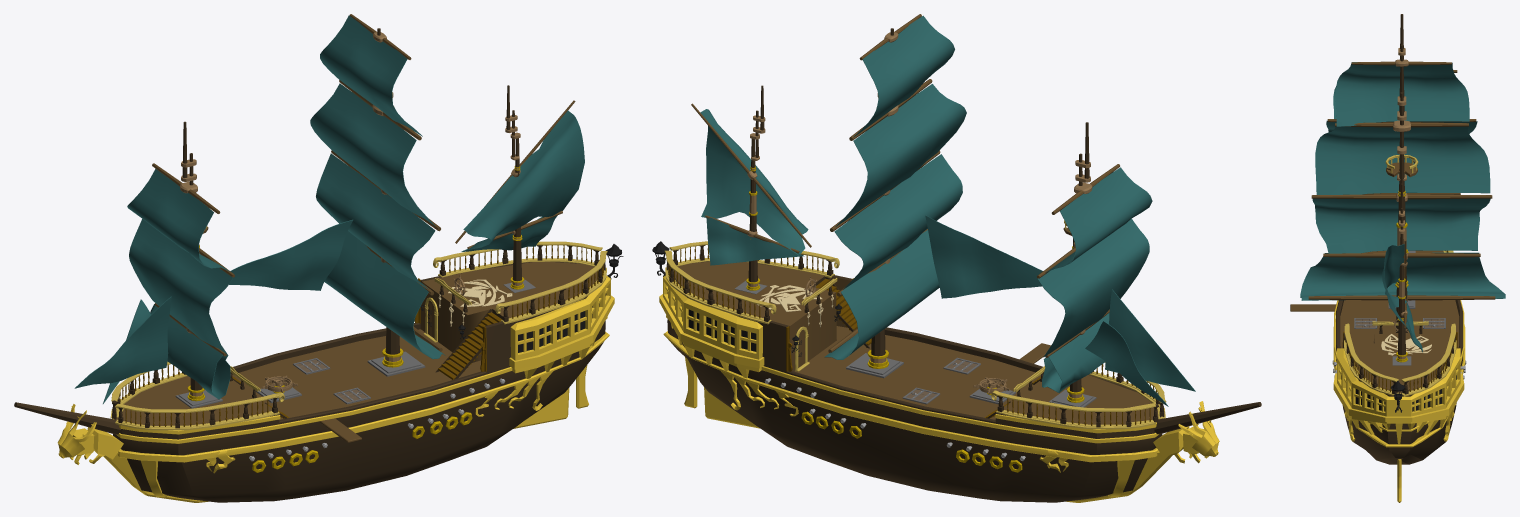
File: Ship.fbx
The picture shows the model from 3 angles, left to right: view 1: azimuth 30°, elevation 25°; view 2: azimuth 150°, elevation 25°; view 3: azimuth 270°, elevation 25°; orthographic projection. The views are drawn at different scales.
Parts seen in each view (by area): view 1: MainHull, sail10, sail4, sail5, sail1, sail6, Stern, sail3, PrimaryHullBand, sail9, sail2, sail8 (+10 smaller); view 2: MainHull, sail4, sail5, sail1, sail6, sail10, sail9, Stern, PrimaryHullBand, sail3, sail2, sail8 (+11 smaller); view 3: sail4, MainHull, sail5, sail3, sail6, Stern, PrimaryHullBand, sail10, SailBeam11, SailBeam17, SailBeam12, SailBeam7 (+13 smaller).
Boxes of the visible parts, box(x1,y1,x2,y2) form: MainHull: box(113, 261, 605, 502); sail10: box(463, 110, 584, 250); sail4: box(310, 83, 434, 225); sail5: box(316, 153, 435, 289); sail1: box(129, 219, 233, 354); sail6: box(324, 231, 445, 359); Stern: box(509, 275, 614, 378); sail3: box(320, 15, 422, 136); PrimaryHullBand: box(118, 332, 609, 497); sail9: box(229, 219, 353, 290); sail2: box(127, 169, 229, 271); sail8: box(74, 296, 171, 388); MainHull: box(667, 261, 1162, 502); sail4: box(835, 84, 966, 226); sail5: box(834, 154, 962, 289); sail1: box(1037, 218, 1149, 357); sail6: box(824, 230, 939, 359); sail10: box(700, 109, 808, 255); sail9: box(925, 215, 1042, 298); Stern: box(659, 275, 764, 378); PrimaryHullBand: box(663, 331, 1157, 497); sail3: box(853, 15, 954, 137); sail2: box(1045, 167, 1152, 272); sail8: box(1105, 289, 1195, 391); sail4: box(1315, 126, 1490, 194); MainHull: box(1336, 250, 1462, 464); sail5: box(1312, 198, 1490, 253); sail3: box(1335, 62, 1469, 126); sail6: box(1300, 252, 1505, 300); Stern: box(1333, 348, 1464, 444); PrimaryHullBand: box(1333, 319, 1465, 447); sail10: box(1382, 244, 1407, 327); SailBeam11: box(1311, 194, 1492, 199); SailBeam17: box(1308, 295, 1495, 300); SailBeam12: box(1323, 253, 1480, 257); SailBeam7: box(1335, 122, 1468, 127).
Size of the model in its own units: 35.58 by 24.81 by 12.9.
